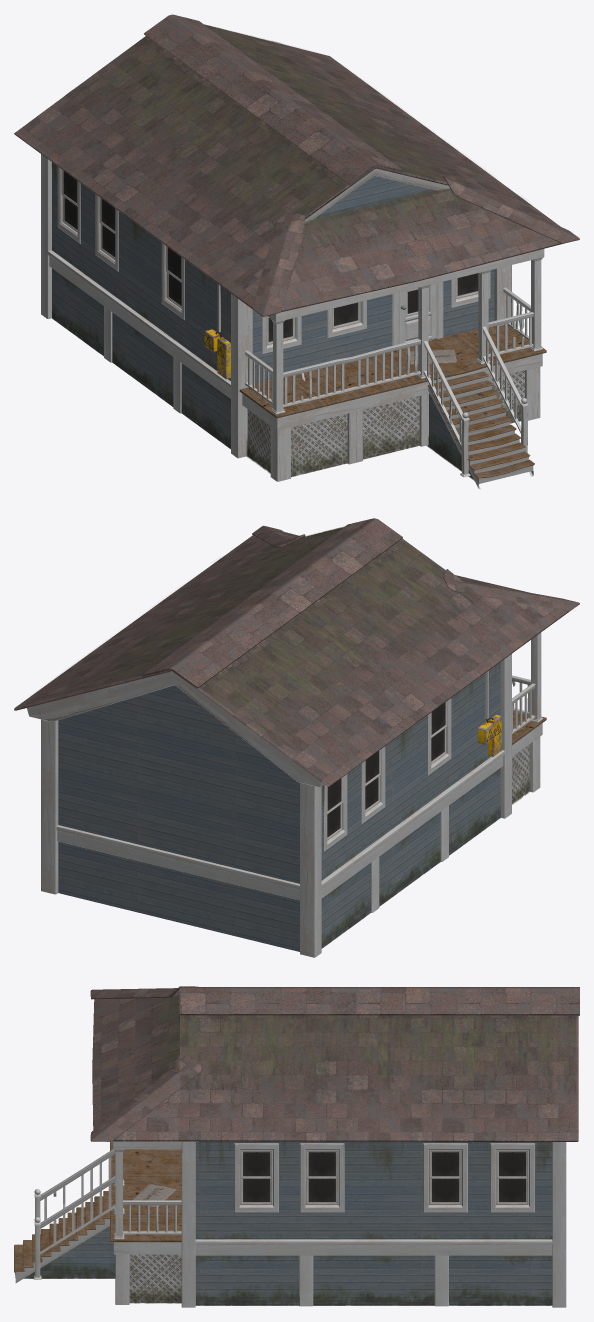
3 views of the same model, one above another, from view 1: azimuth 30°, elevation 25°; view 2: azimuth 150°, elevation 25°; view 3: azimuth 270°, elevation 25° (orthographic). The views are drawn at different scales.
Visible parts, largest first — view 1: LPHouse, LPHouseDecals; view 2: LPHouse, LPHouseDecals; view 3: LPHouse, LPHouseDecals.
Boxes of the visible parts, x1,y1,x2,y2 form: LPHouse: [14, 14, 579, 489]; LPHouseDecals: [49, 24, 520, 480]; LPHouse: [14, 518, 579, 957]; LPHouseDecals: [64, 526, 530, 948]; LPHouse: [14, 986, 579, 1307]; LPHouseDecals: [26, 995, 576, 1305].
Bounding box in the file's own units: 5.93 × 4.77 × 9.4.
7 materials, 7 textured.
